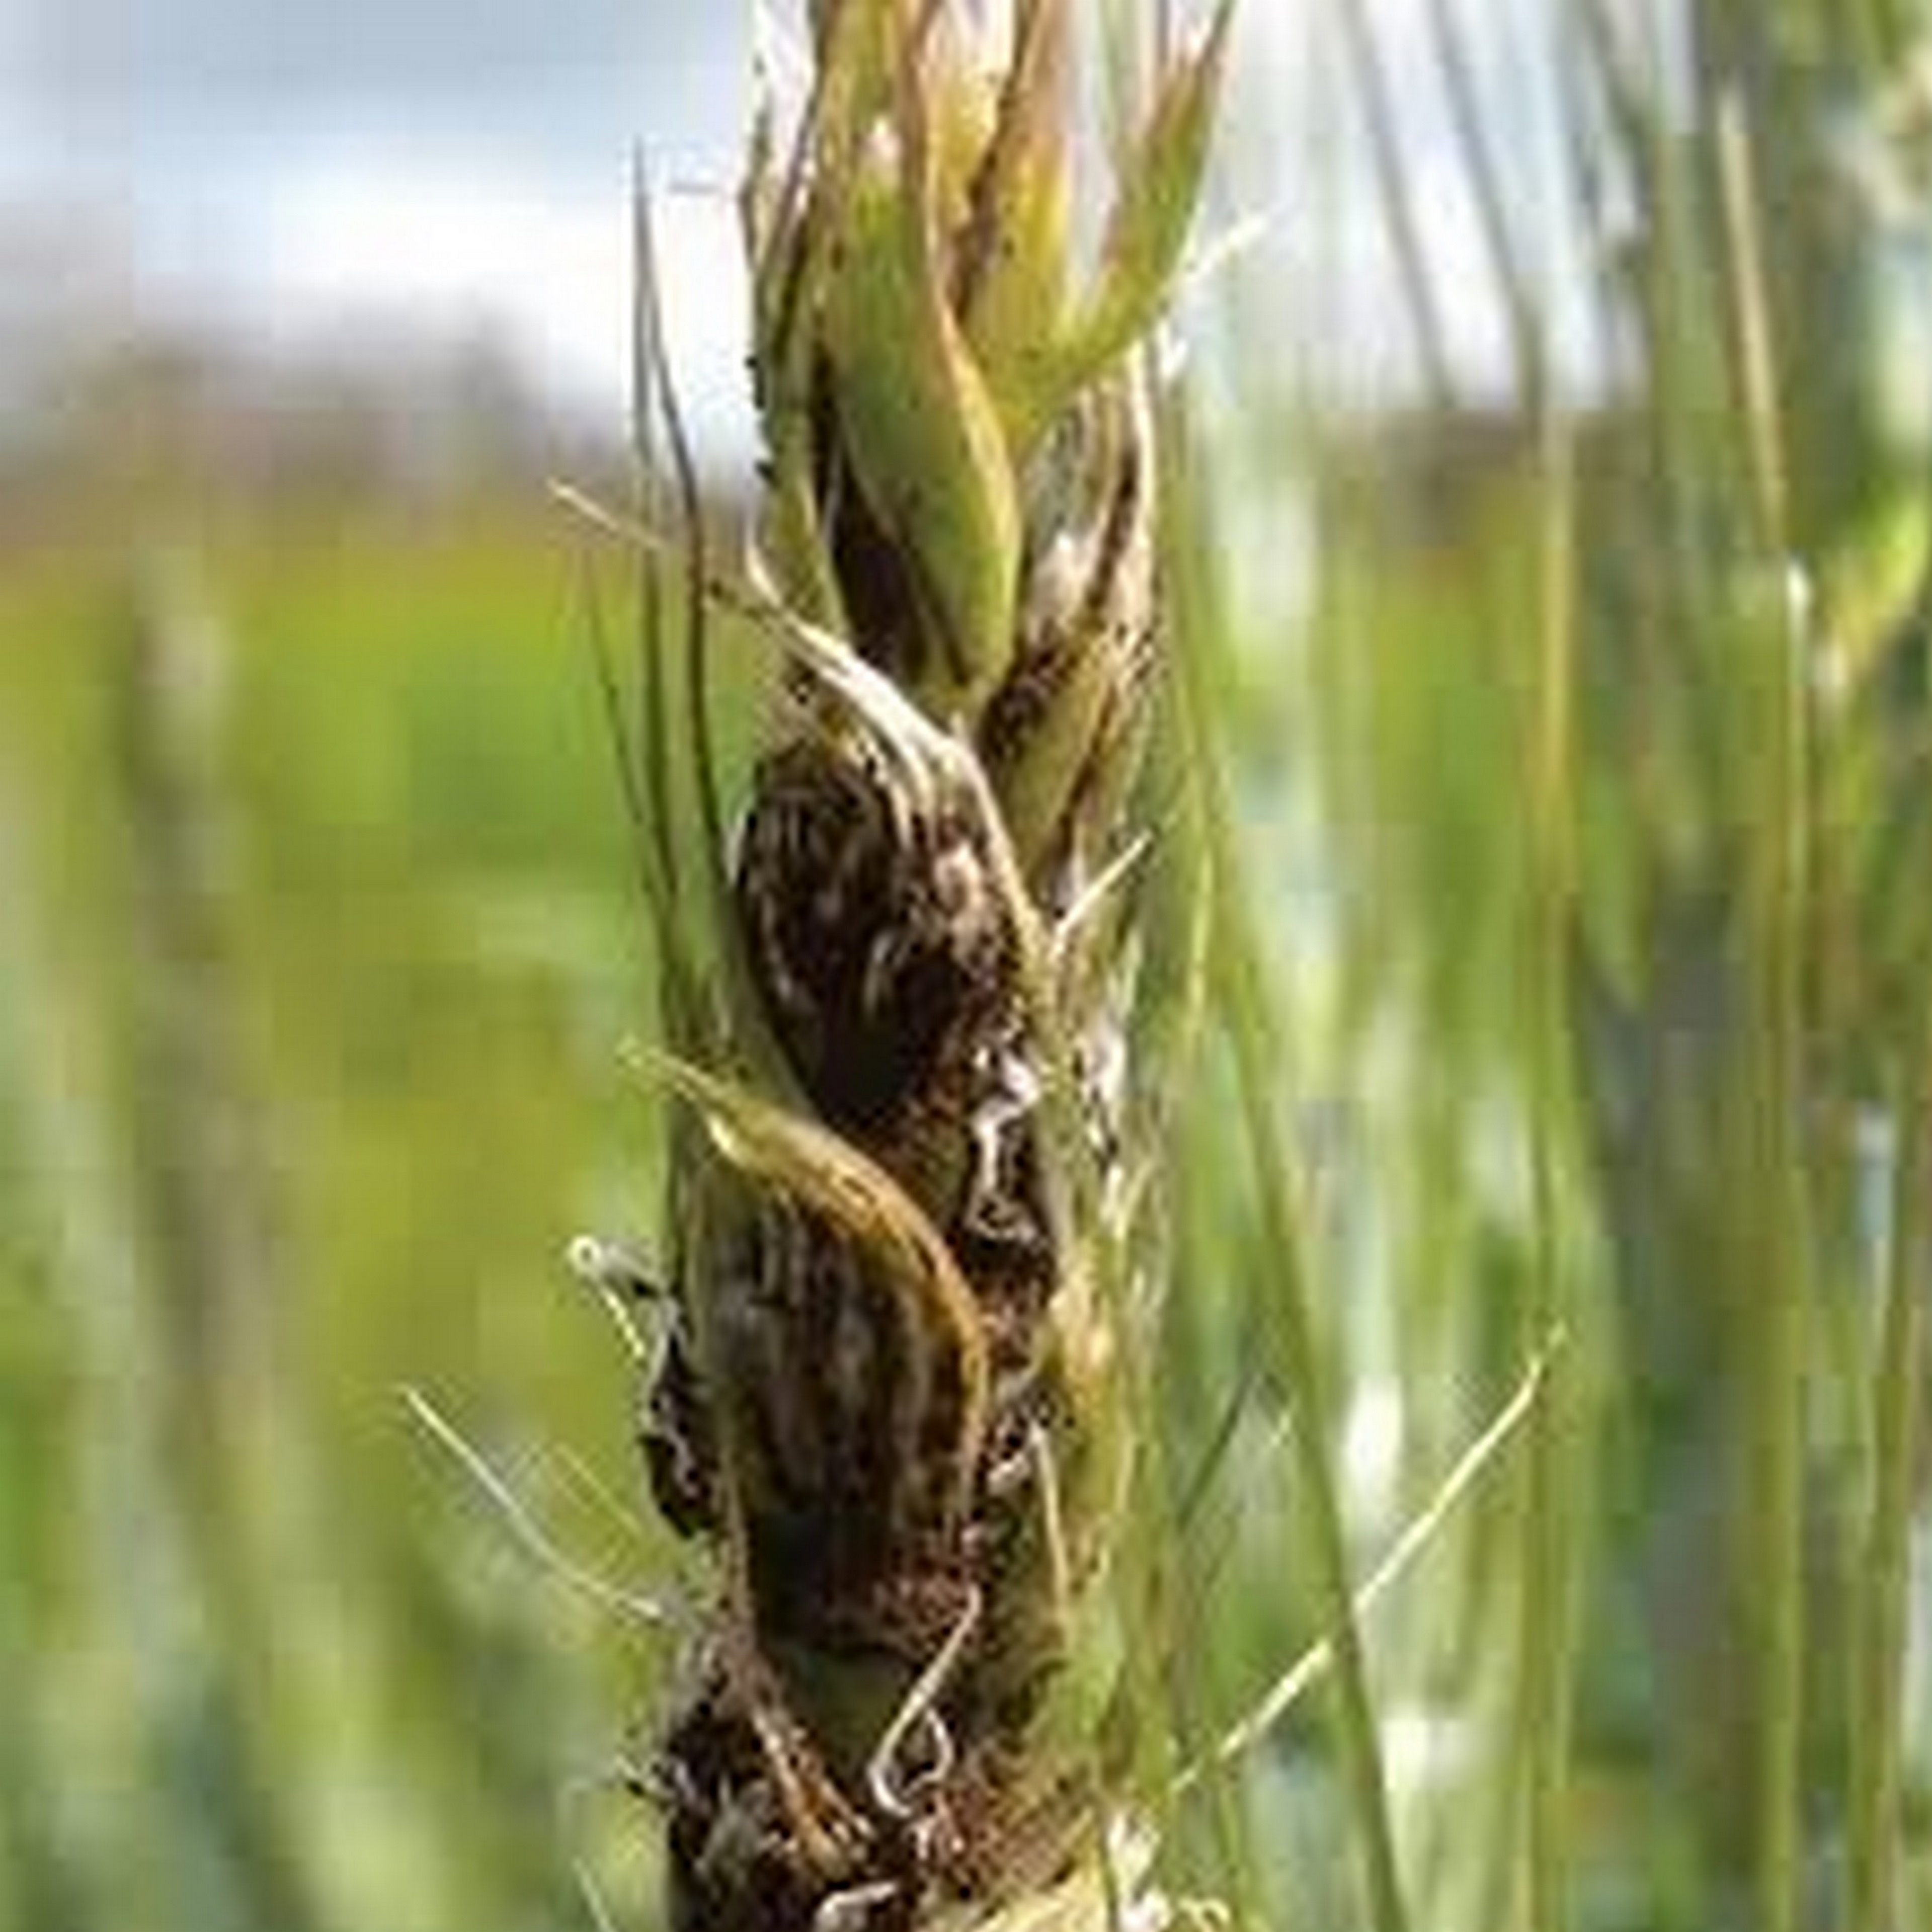Wheat Loose Smut: (550, 221, 1272, 1932)
